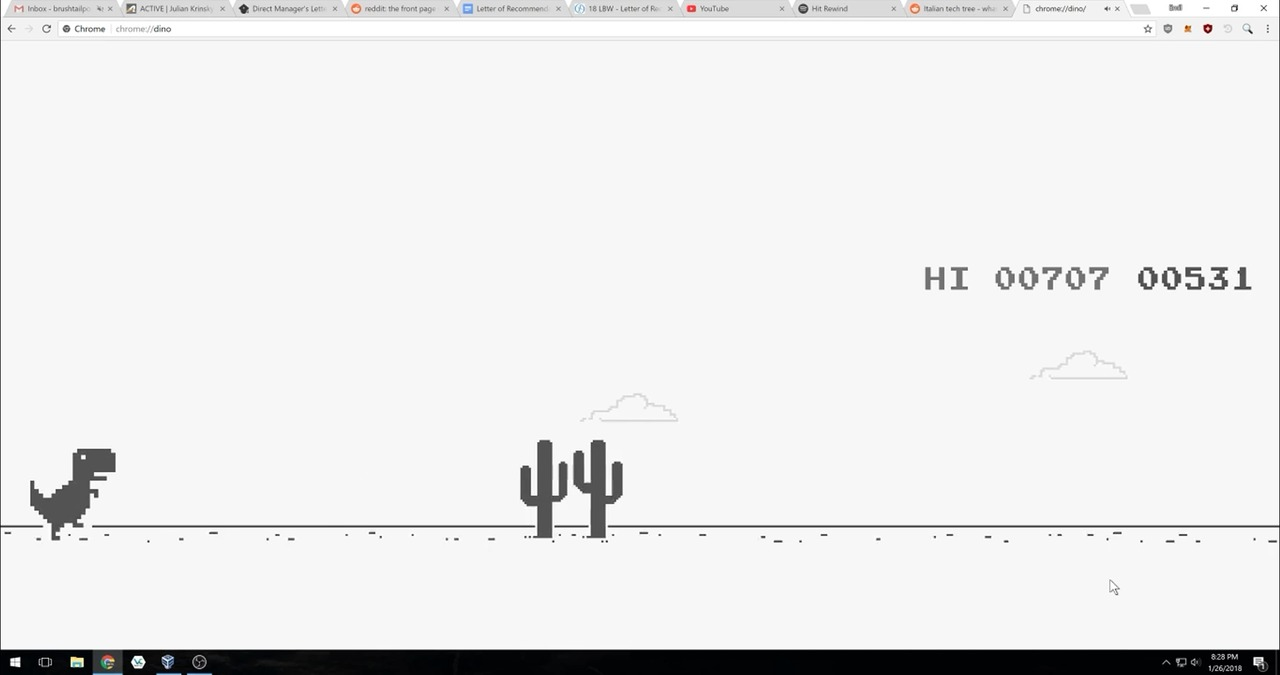cactus: (518, 434, 628, 543)
dinosaur: (26, 444, 114, 543)
